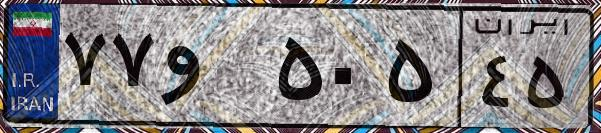0: (330, 28, 385, 110)
4: (475, 38, 525, 113)
5: (270, 28, 330, 110), (385, 28, 445, 110), (525, 38, 570, 115)
7: (57, 26, 110, 100), (110, 28, 158, 98)
و: (158, 20, 270, 120)
